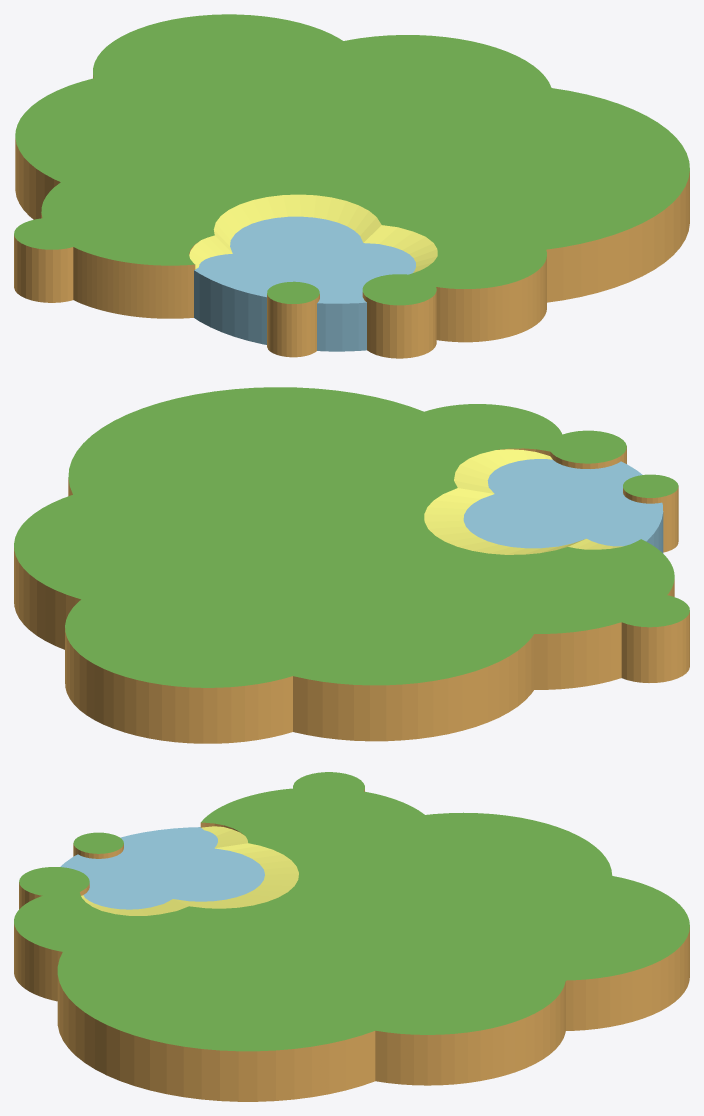
The model's file is mapV1.fbx.
3 renders of one model, top to bottom at view 1: azimuth 30°, elevation 25°; view 2: azimuth 150°, elevation 25°; view 3: azimuth 270°, elevation 25°, orthographic. The views are drawn at different scales.
Visible parts, largest first — view 1: herbe, terrain, water, sable; view 2: herbe, terrain, water, sable; view 3: herbe, terrain, water, sable.
Boxes of the visible parts, <box> form: herbe: <box>14,14,689,305</box>; terrain: <box>14,75,689,358</box>; water: <box>194,216,415,351</box>; sable: <box>189,194,437,272</box>; herbe: <box>14,387,689,687</box>; terrain: <box>14,446,689,743</box>; water: <box>463,459,663,553</box>; sable: <box>424,449,623,554</box>; herbe: <box>14,772,689,1051</box>; terrain: <box>14,789,689,1101</box>; water: <box>60,827,264,909</box>; sable: <box>81,826,298,915</box>.
Size of the model in its own units: 23672 by 2000 by 24225.
